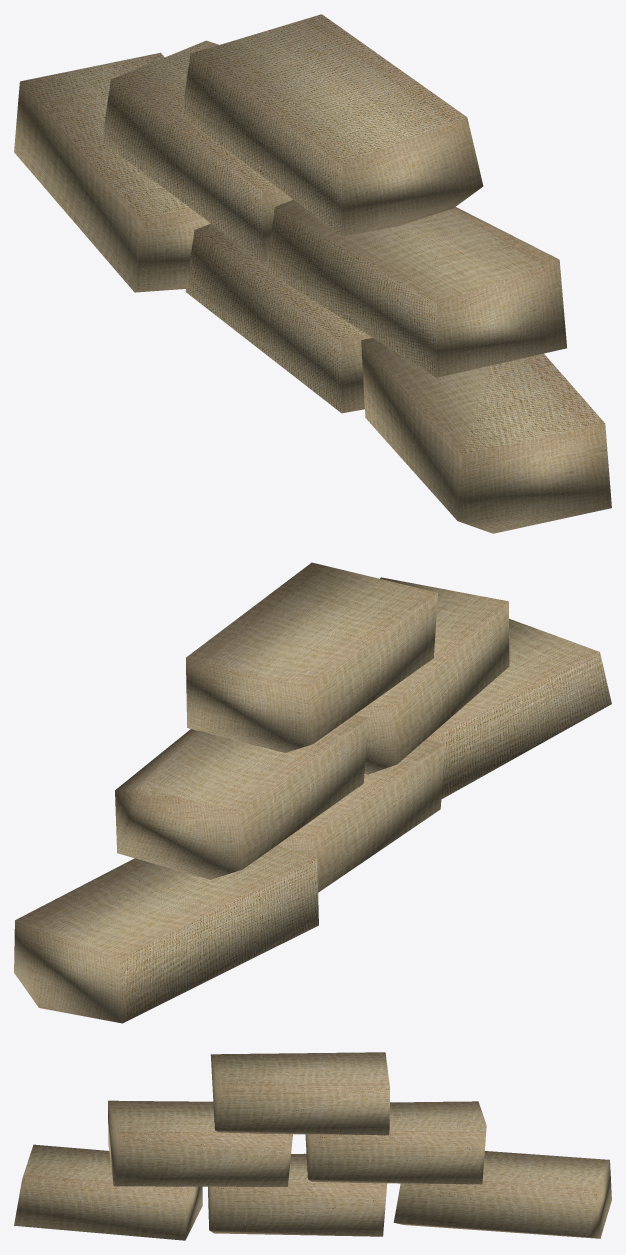
The model's file is Mehsok.fbx.
3 views of the same model, one above another, from view 1: azimuth 30°, elevation 25°; view 2: azimuth 150°, elevation 25°; view 3: azimuth 270°, elevation 25° (orthographic). The views are drawn at different scales.
Visible parts, largest first — view 1: Cube.057; view 2: Cube.057; view 3: Cube.057.
Boxes of the visible parts, x1=… form: Cube.057: x1=14, y1=14, x2=611, y2=533; Cube.057: x1=14, y1=562, x2=611, y2=1023; Cube.057: x1=14, y1=1052, x2=611, y2=1240.
Bounding box in the file's own units: 208 × 265 × 921.
